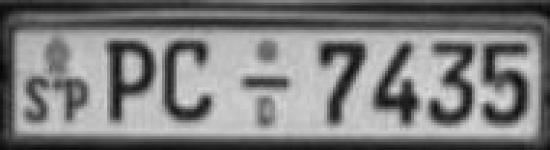-: (234, 68, 297, 95)
3: (426, 38, 479, 133)
4: (371, 38, 422, 132)
5: (480, 34, 536, 133)
7: (313, 34, 368, 132)
C: (162, 32, 216, 128)
P: (101, 34, 161, 128), (62, 73, 93, 128)
S: (20, 73, 55, 127)
